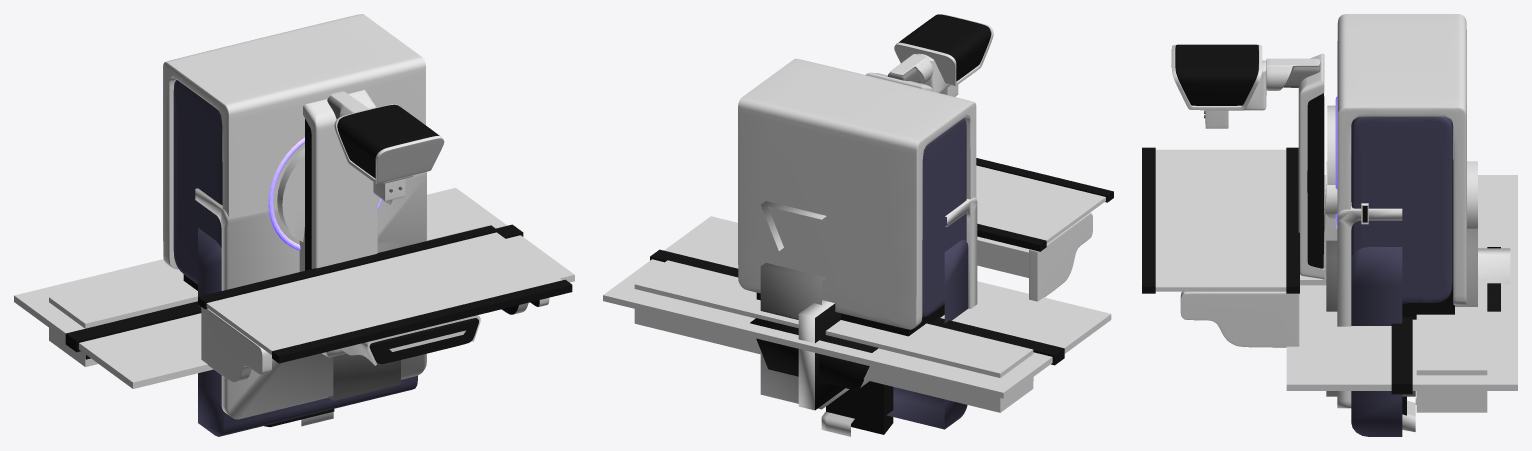
The model's file is xrayMain4.glb.
The picture shows the model from 3 angles, left to right: view 1: azimuth 30°, elevation 25°; view 2: azimuth 150°, elevation 25°; view 3: azimuth 270°, elevation 25°; orthographic projection. The views are drawn at different scales.
Visible parts, largest first — view 1: MainBox, Table, Cube.001, Cube.005, MainHandler, Cube.006, Tube, Cube.002, TableHandler, Reciever, template, Cube.021 (+4 smaller); view 2: MainBox, Cube.005, Cube.006, Table, TableHandler, Tube, template, Cube.002, Cube.009, Cube.004, Cube.008, Cube.021 (+7 smaller); view 3: MainBox, Table, Cube.005, Cube.006, Cube.002, TableHandler, MainHandler, Tube, Cube.001, template, Cube.021, Rotator (+6 smaller).
Part boxes in pixels (x1,y1,x2,y2): MainBox: [163, 14, 425, 284]; Table: [198, 225, 572, 363]; Cube.001: [195, 172, 426, 419]; Cube.005: [14, 187, 574, 388]; MainHandler: [303, 89, 377, 270]; Cube.006: [49, 199, 488, 366]; Tube: [334, 104, 444, 183]; Cube.002: [198, 228, 417, 436]; TableHandler: [201, 298, 549, 382]; Reciever: [340, 315, 480, 365]; template: [328, 239, 400, 400]; Cube.021: [65, 224, 523, 352]; MainBox: [738, 58, 976, 329]; Cube.005: [603, 216, 1111, 398]; Cube.006: [634, 260, 1033, 412]; Table: [976, 158, 1113, 251]; TableHandler: [977, 213, 1092, 301]; Tube: [894, 14, 993, 86]; template: [760, 263, 849, 409]; Cube.002: [886, 239, 968, 429]; Cube.009: [750, 318, 878, 389]; Cube.004: [798, 300, 844, 410]; Cube.008: [826, 381, 893, 434]; Cube.021: [650, 249, 1064, 365]; MainBox: [1337, 14, 1466, 305]; Table: [1142, 147, 1299, 293]; Cube.005: [1286, 175, 1517, 390]; Cube.006: [1415, 179, 1487, 412]; Cube.002: [1351, 247, 1402, 436]; TableHandler: [1180, 291, 1299, 347]; MainHandler: [1298, 53, 1324, 279]; Tube: [1171, 44, 1262, 109]; Cube.001: [1337, 202, 1402, 408]; template: [1326, 228, 1477, 396]; Cube.021: [1391, 317, 1412, 394]; Rotator: [1300, 105, 1337, 285].
Size of the model in its own units: 6.61 by 5.25 by 4.96.
